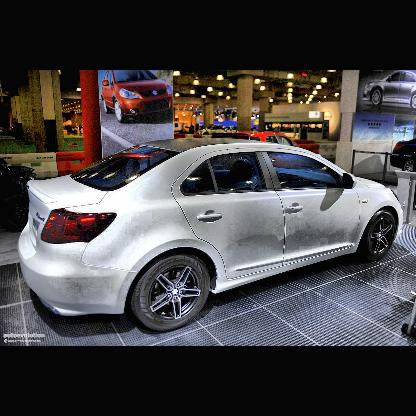Suzuki Kizashi Sedan 2012: (16, 135, 406, 323)
